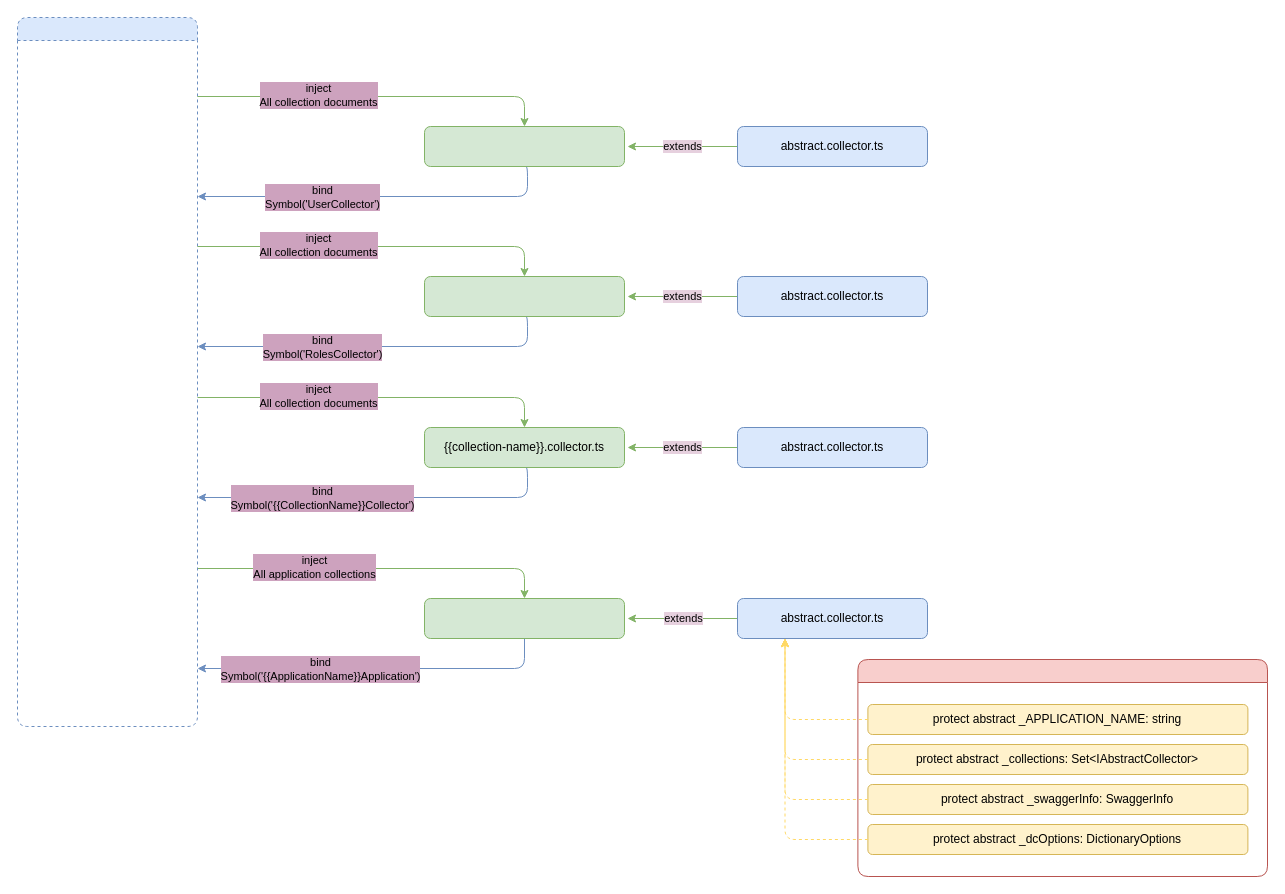
The diagram is 1285 pixels wide and 894 high, and some of its shapes have lost their labels. The shapes that lost their labels are listed below. From the top down, each one's box as (x1, y1, x2, y2) in pixels, then its label:
(424, 126, 624, 166): users.collector.ts
(424, 276, 624, 316): roles.collector.ts
(16, 16, 198, 726): ioc.{{application-name}}.ts
(424, 598, 624, 638): {{application-name}}.application.ts
(857, 658, 1268, 876): methods and properties
